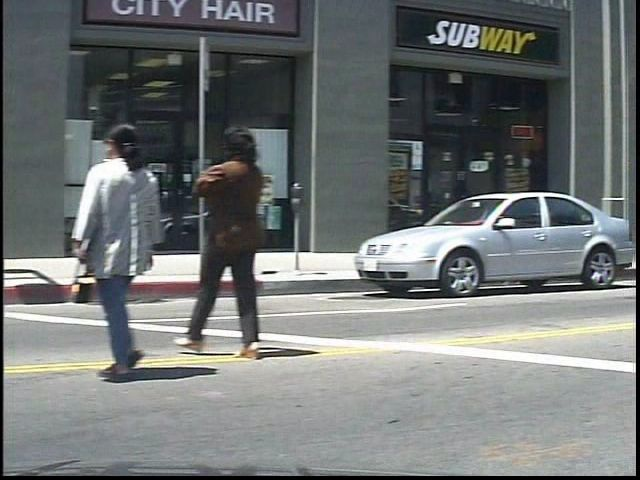person: (83, 120, 188, 382), (193, 120, 285, 359)
